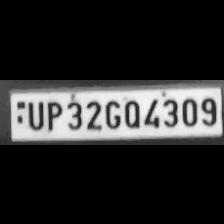0: (178, 94, 198, 126)
2: (84, 96, 103, 130)
3: (62, 96, 82, 130), (161, 95, 179, 127)
4: (142, 95, 160, 127)
9: (198, 92, 218, 125)
G: (103, 97, 121, 129)
P: (43, 97, 62, 130)
Q: (122, 96, 140, 128)
U: (24, 97, 44, 128)
